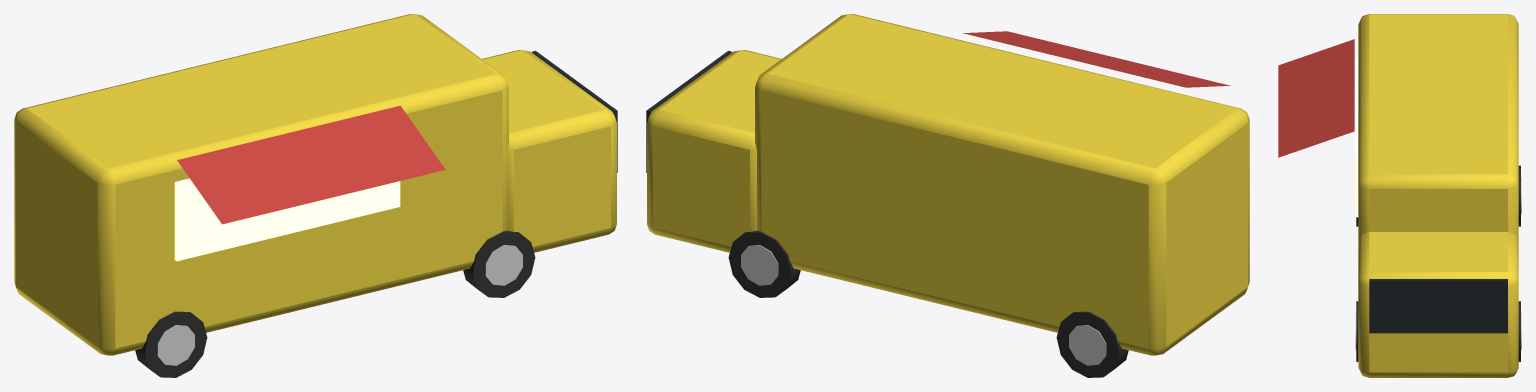
The model's file is SM_FoodTruck.fbx.
3 renders of one model, left to right at view 1: azimuth 30°, elevation 25°; view 2: azimuth 150°, elevation 25°; view 3: azimuth 270°, elevation 25°, orthographic. The views are drawn at different scales.
Visible parts, largest first — view 1: SM_FoodTruck; view 2: SM_FoodTruck; view 3: SM_FoodTruck.
Boxes of the visible parts, x1,y1,x2,y2 form: SM_FoodTruck: (14,14,617,377); SM_FoodTruck: (646,14,1249,377); SM_FoodTruck: (1278,14,1521,377).
Bounding box in the file's own units: 697 × 280 × 334.
